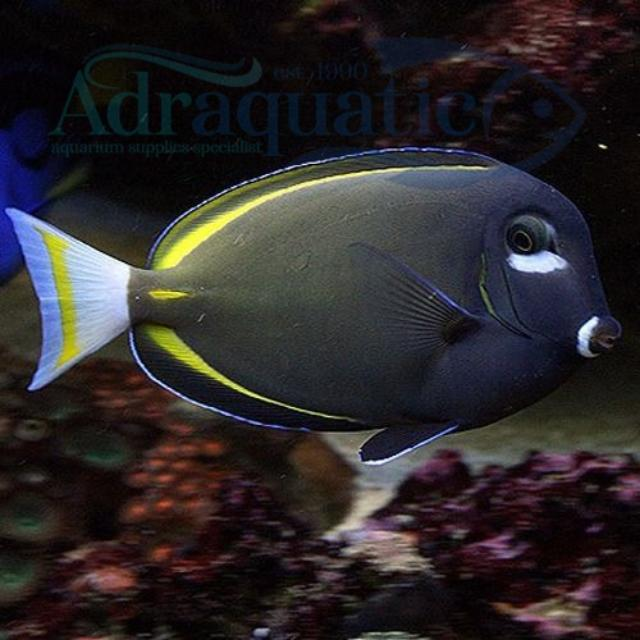Mulut: (548, 284, 640, 396)
Sirip Anal: (119, 308, 381, 448)
Sirip Dada: (311, 223, 493, 363)
Sirip Ekor: (2, 186, 146, 416)
Sirip Perut: (349, 402, 467, 491)
Sirip Punggung: (138, 134, 488, 286)
